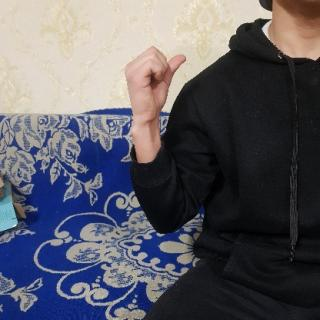WAW: (119, 43, 191, 128)
